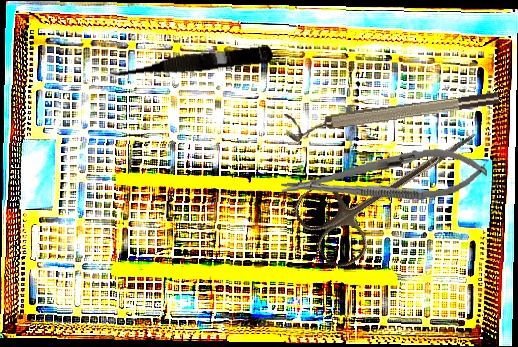Fixation Ring: (284, 88, 501, 143)
Iris Scissors: (287, 96, 497, 275)
Micro Scissor: (103, 41, 275, 84)
Needle Holder: (279, 143, 489, 212)
